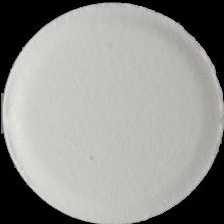61786-579: (0, 0, 224, 224)
